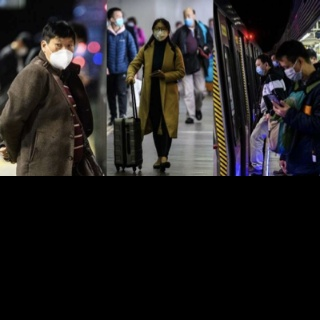with_mask: (46, 38, 75, 70), (280, 63, 301, 81), (152, 23, 168, 40), (254, 61, 264, 75), (183, 12, 193, 24), (115, 13, 123, 26), (270, 57, 279, 67)
